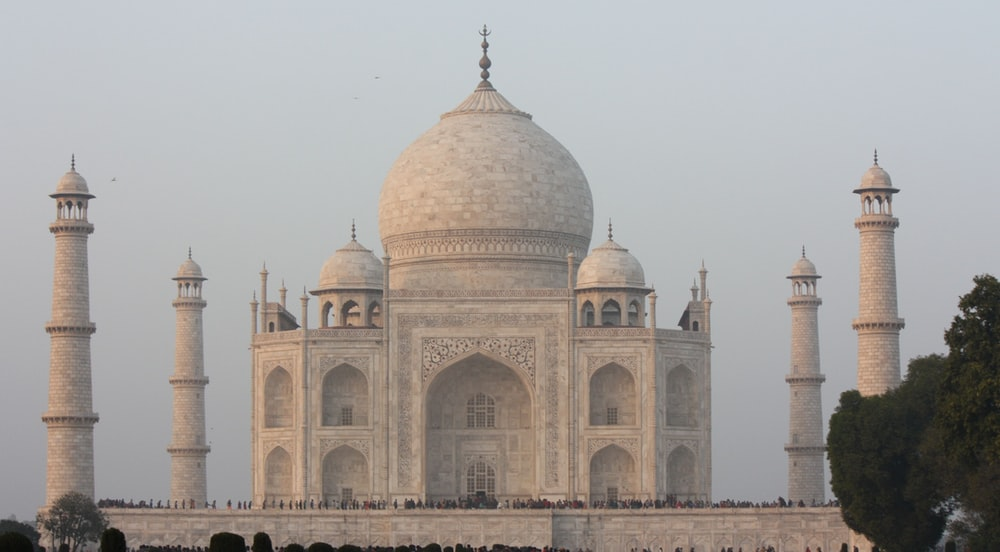Mosque: (35, 18, 920, 519)
